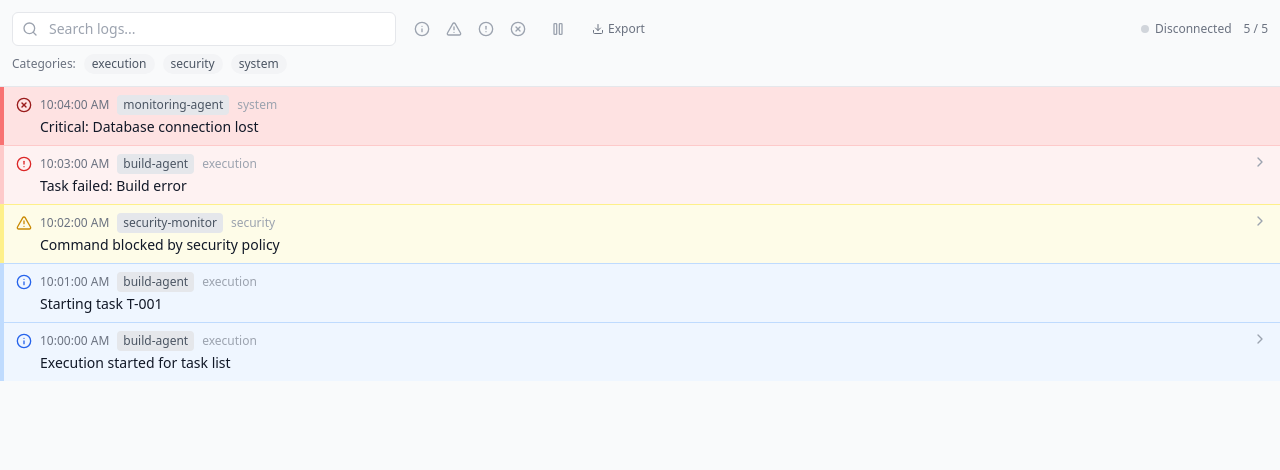
Test: UnifiedLogViewer › Log expansion › collapses log when clicked again
// Click to expand
Click the text "Execution started for task list".
click(135, 362)  # box [40, 353, 231, 372]
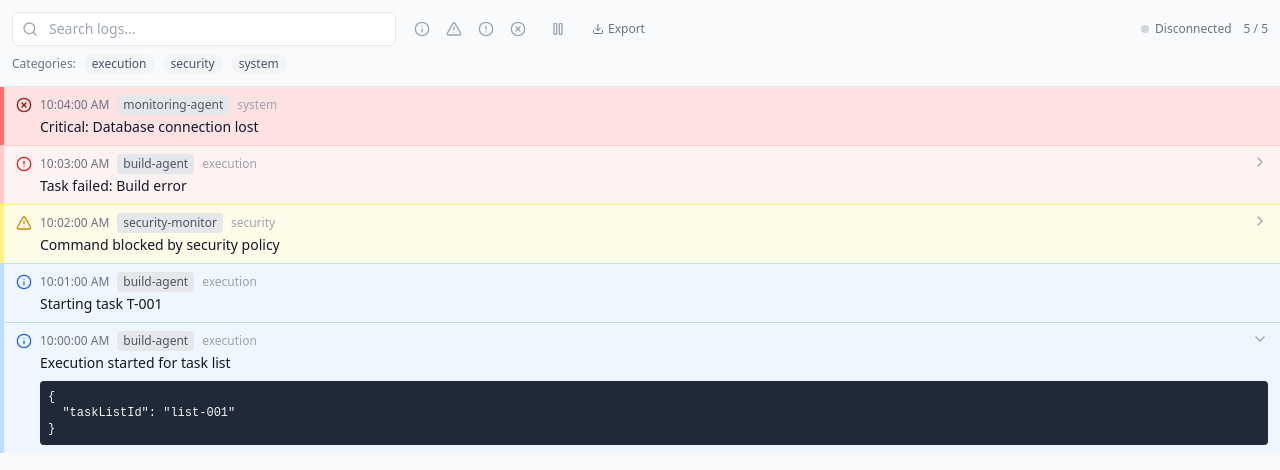
Check: the text "{ \"taskListId\": \"list-001\" }" is shown, box [40, 381, 1268, 445]
// Click to collapse
Click the text "Execution started for task list".
click(135, 362)  # box [40, 353, 231, 372]
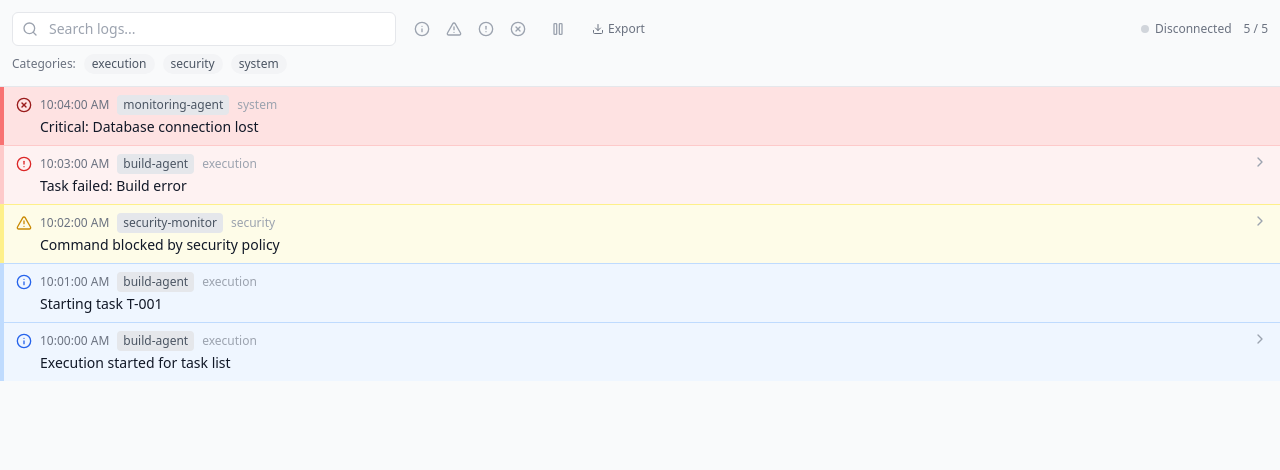
Check: the text "\"taskListId\"" is gone
